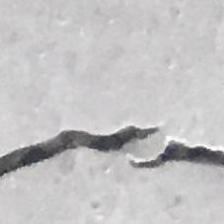Crack: (0, 101, 224, 199)
